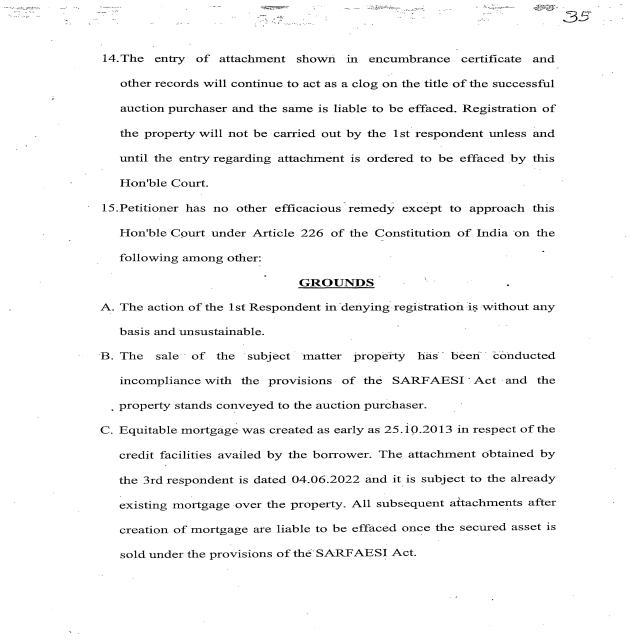page-number: (467, 0, 640, 53)
